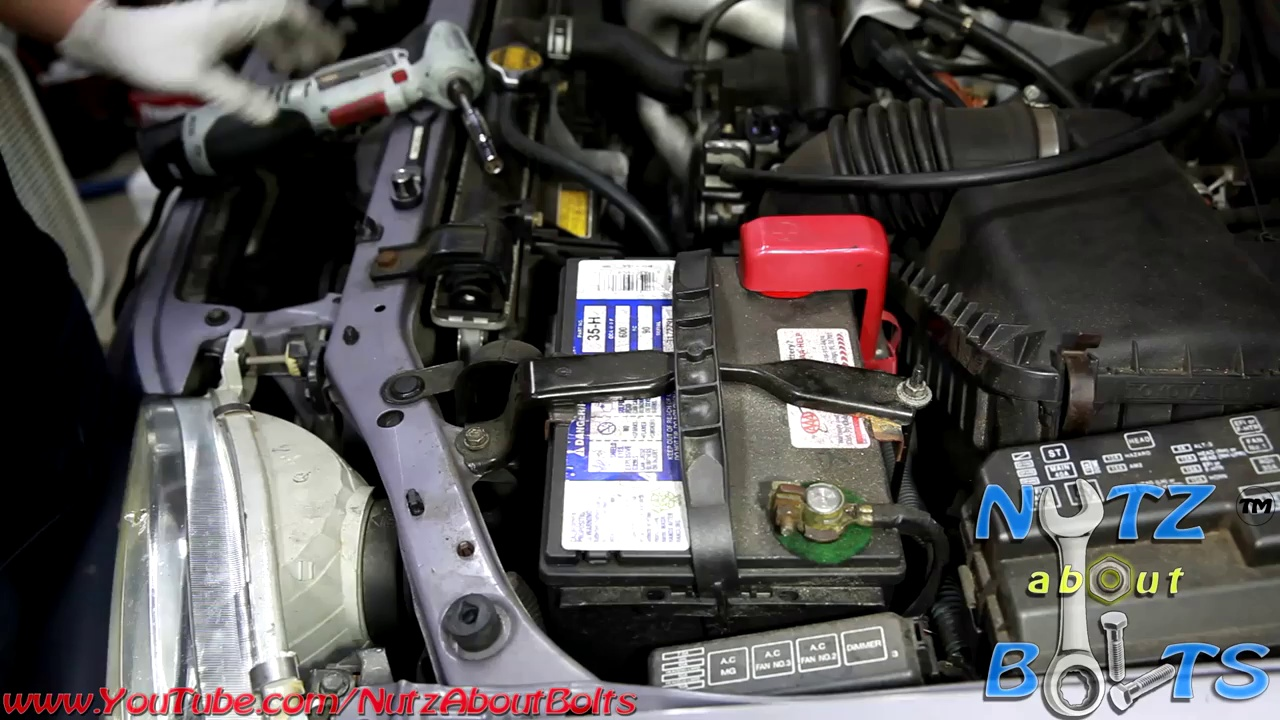battery: (521, 193, 934, 611)
neg_connected: (760, 453, 912, 559)
pos_connected: (711, 194, 922, 378)
